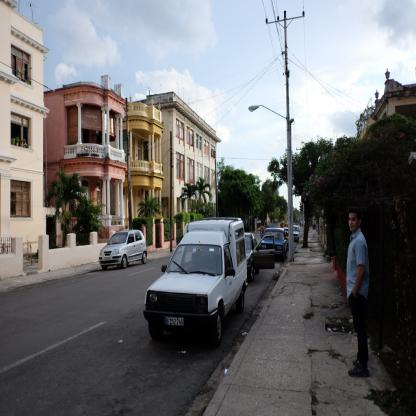Car: (99, 230, 150, 273), (235, 233, 276, 282), (260, 226, 288, 258), (292, 225, 300, 241), (281, 229, 287, 240), (268, 223, 276, 226)
